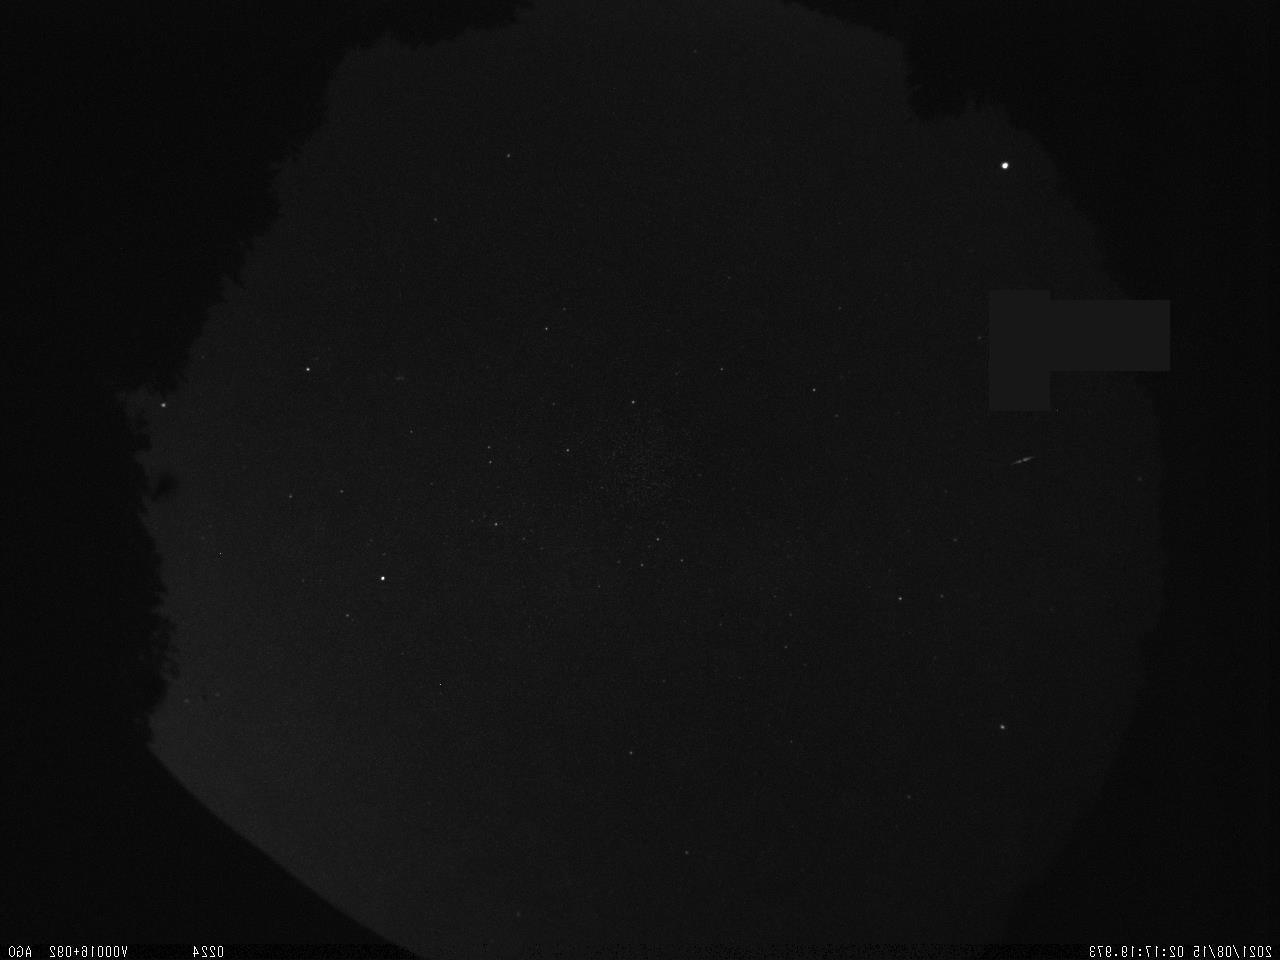meteor: (998, 443, 1047, 482)
